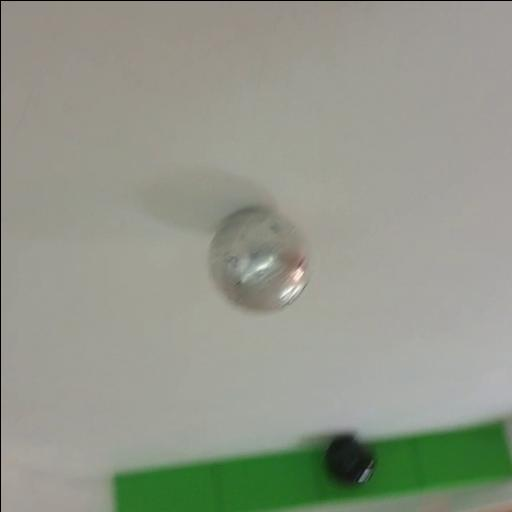alive: (204, 204, 314, 316)
dead: (321, 432, 378, 488)
